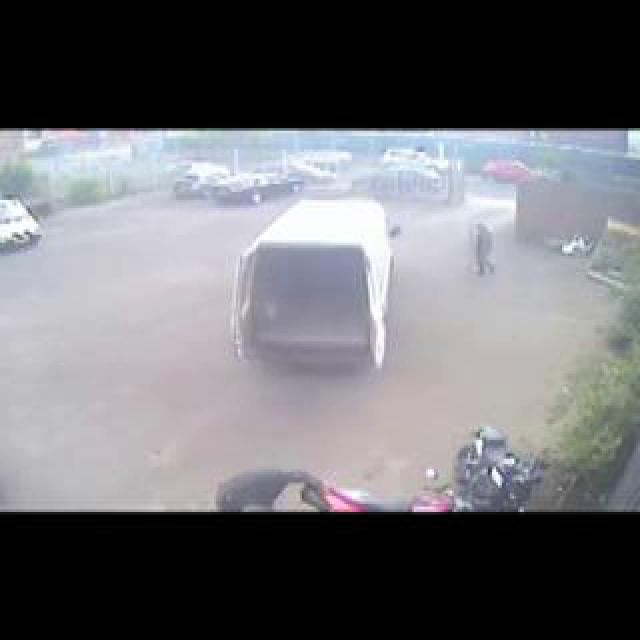stealing: (228, 167, 470, 557)
